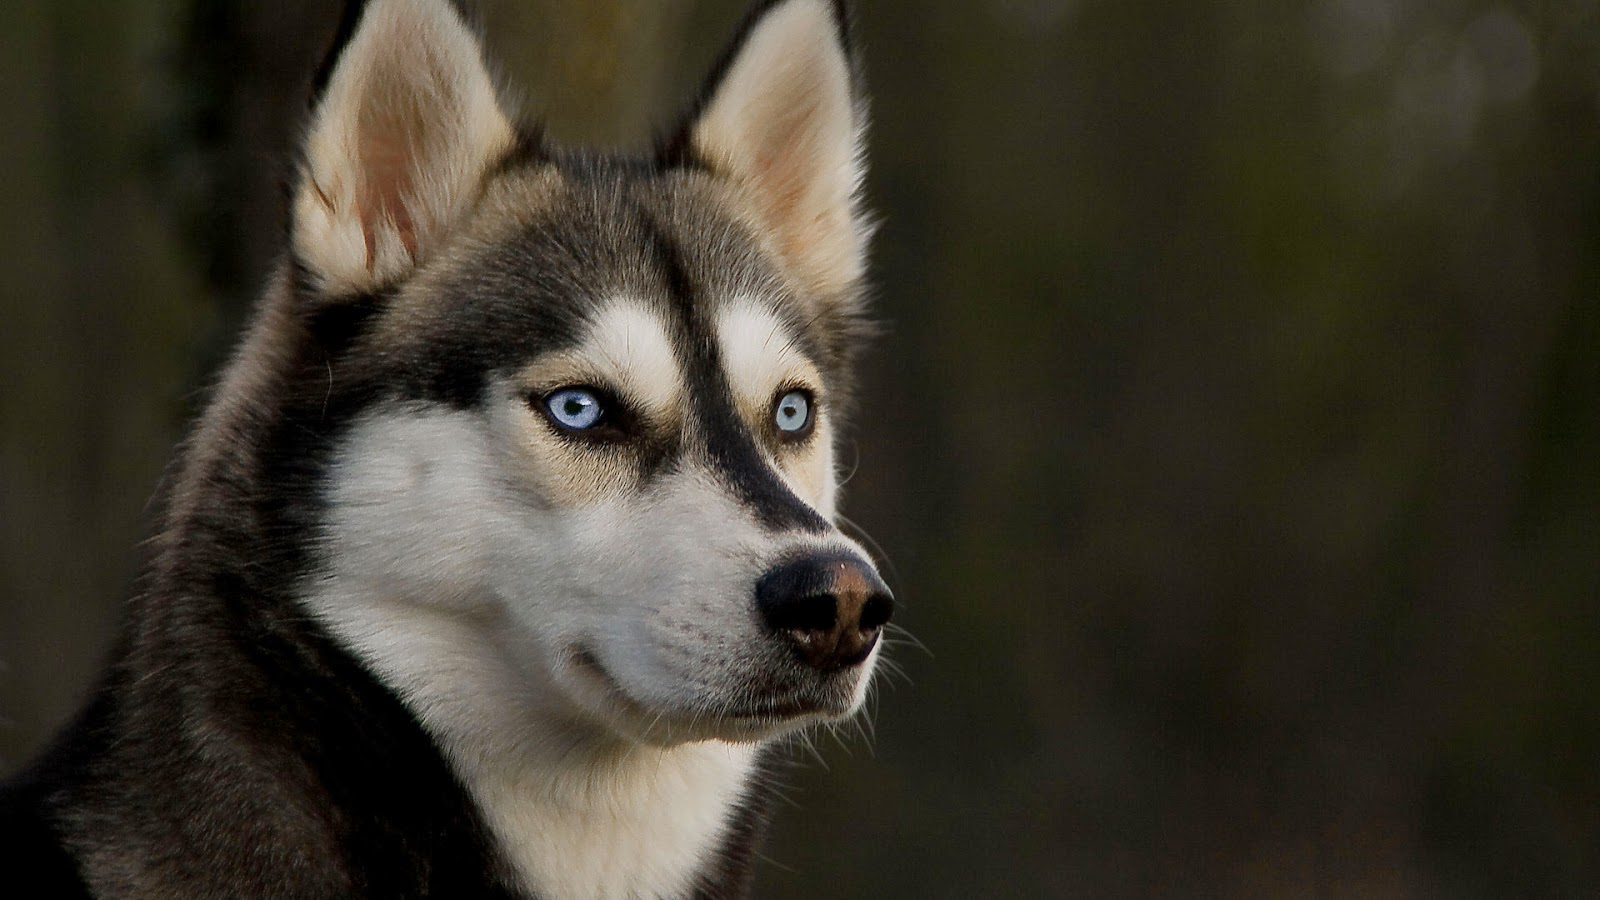dog: (1, 1, 949, 900)
siberian-husky: (2, 1, 952, 900)
